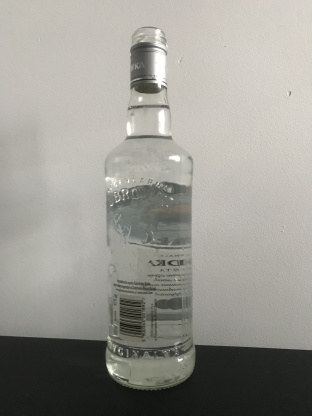nakretka: (128, 25, 169, 95)
